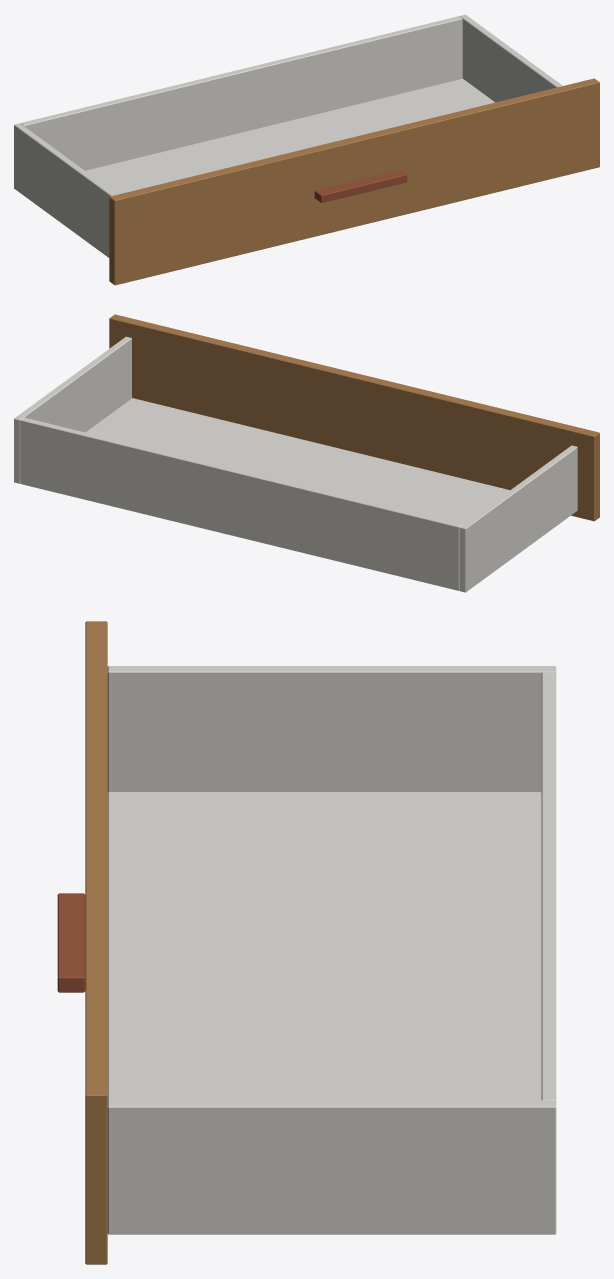
The model's file is glass_door_display_drawers_middle_drawer.glb.
3 views of the same model, one above another, from view 1: azimuth 30°, elevation 25°; view 2: azimuth 150°, elevation 25°; view 3: azimuth 270°, elevation 25° (orthographic). The views are drawn at different scales.
Parts seen in each view (by area): view 1: glass_door_display_drawers_middle_drawer.001; view 2: glass_door_display_drawers_middle_drawer.001; view 3: glass_door_display_drawers_middle_drawer.001.
Part boxes in pixels (x1,y1,x2,y2): glass_door_display_drawers_middle_drawer.001: [14, 14, 599, 285]; glass_door_display_drawers_middle_drawer.001: [14, 314, 599, 592]; glass_door_display_drawers_middle_drawer.001: [57, 621, 556, 1264].
Bounding box in the file's own units: 0.9 × 0.151 × 0.4.
